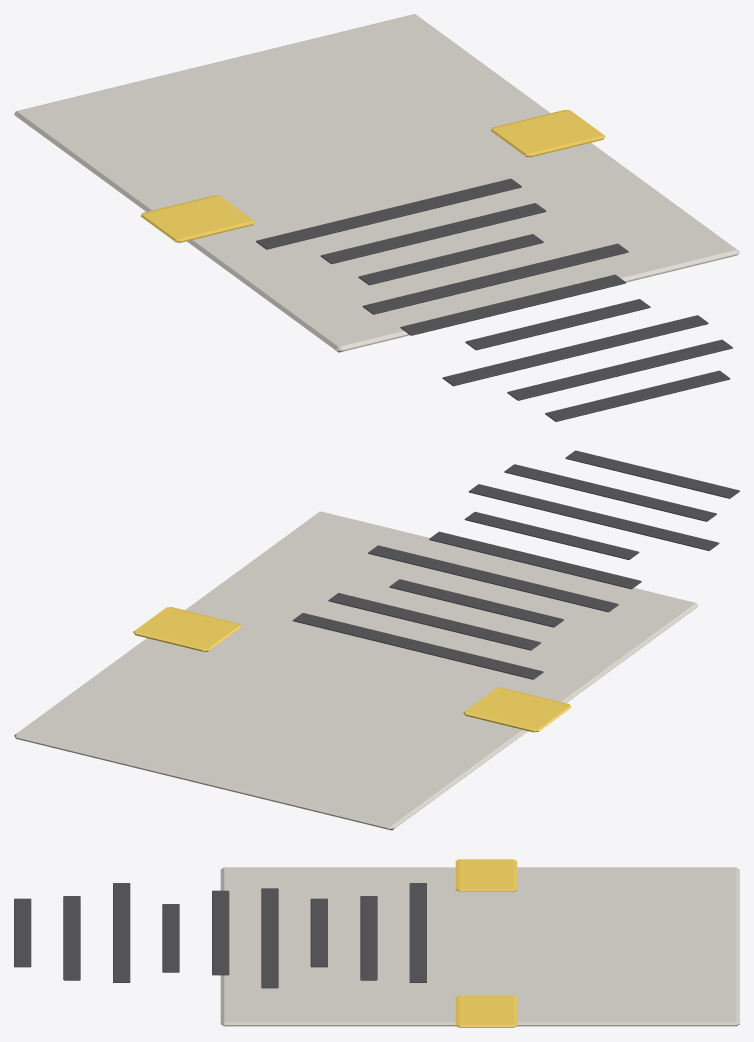
Rendered from live-music-venue-and-festival-stage-set-list-on-the-fl-09dc4a87__33925.glb.
The picture shows the model from 3 angles, top to bottom: view 1: azimuth 30°, elevation 25°; view 2: azimuth 150°, elevation 25°; view 3: azimuth 270°, elevation 25°; orthographic projection. The views are drawn at different scales.
Visible parts, largest first — view 1: set-list-on-the-floor; view 2: set-list-on-the-floor; view 3: set-list-on-the-floor.
Boxes of the visible parts, left/top/right/bottom form: set-list-on-the-floor: left=14, top=14, right=739, bottom=421; set-list-on-the-floor: left=14, top=450, right=739, bottom=830; set-list-on-the-floor: left=14, top=859, right=739, bottom=1027.
Size of the model in its own units: 0.32 by 0.006 by 0.587.
